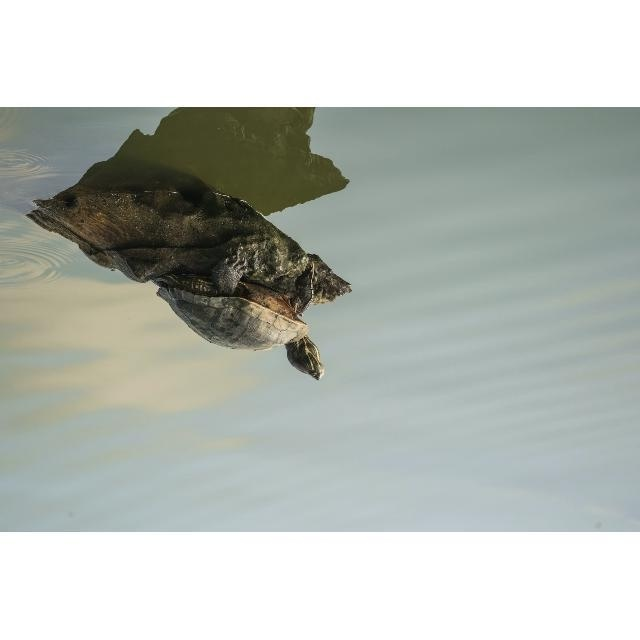turtle: (153, 249, 326, 383)
